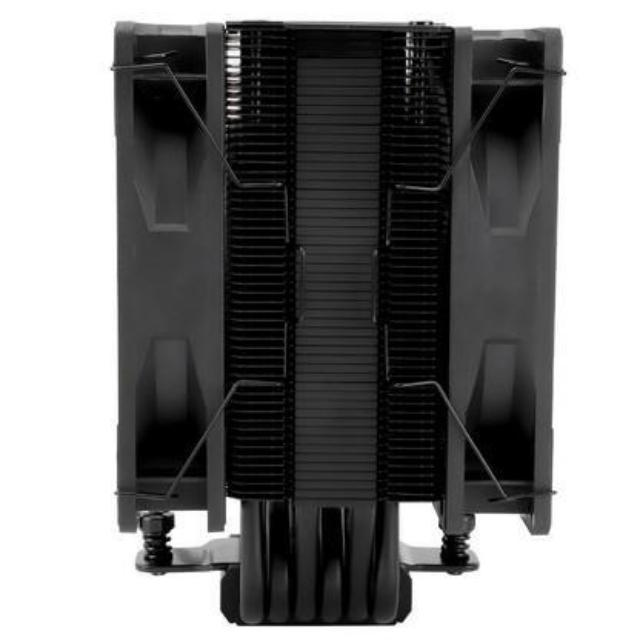CPU_Fan: (104, 16, 562, 630)
